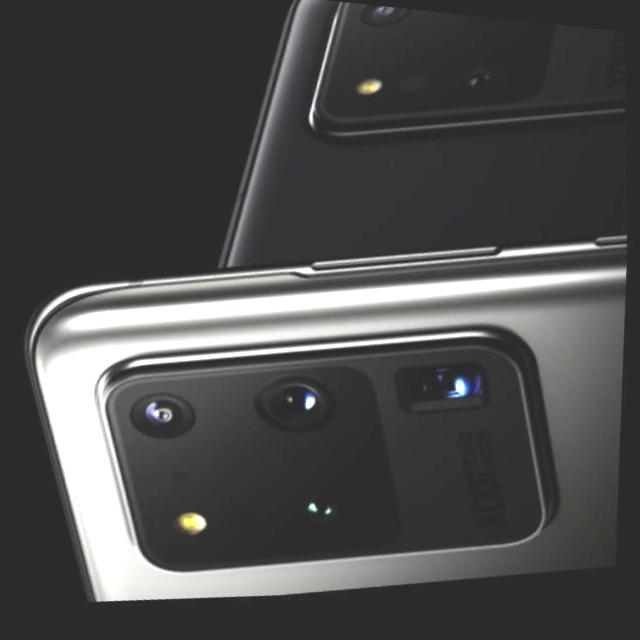lens_back: (250, 362, 372, 458), (402, 356, 514, 428), (117, 379, 210, 456), (276, 473, 362, 554)
